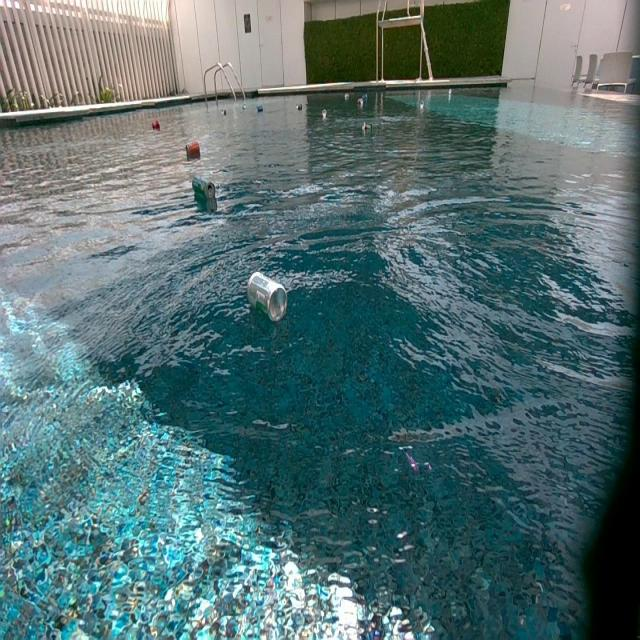Cans: (247, 271, 288, 322), (193, 176, 216, 202), (185, 140, 200, 156), (361, 121, 371, 133), (358, 94, 368, 105), (152, 118, 160, 130), (294, 103, 302, 112), (220, 108, 228, 116), (256, 105, 263, 114), (322, 109, 328, 119), (448, 88, 454, 96), (344, 94, 350, 102), (418, 101, 424, 109), (243, 105, 247, 111)
